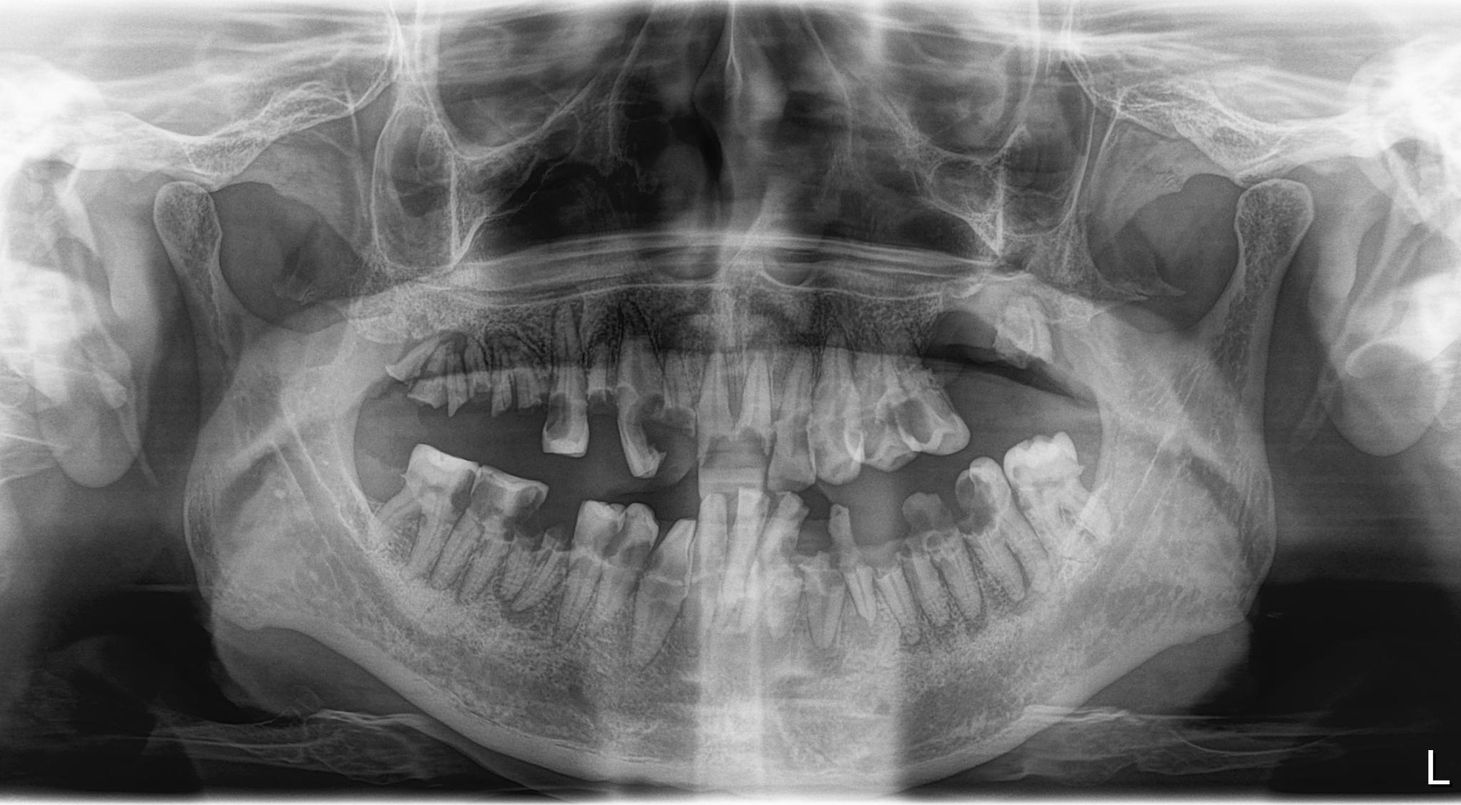Dental Caries: (533, 394, 589, 438), (888, 408, 931, 449), (955, 471, 991, 518), (637, 408, 678, 449), (621, 535, 663, 571), (589, 521, 626, 561), (446, 465, 473, 514), (845, 415, 875, 454), (774, 535, 808, 566), (790, 422, 820, 456), (473, 480, 496, 514)
Missing Tooth: (940, 316, 997, 417), (357, 447, 399, 539)
Retained Root: (653, 381, 778, 464), (992, 294, 1067, 391), (913, 508, 974, 619), (828, 503, 877, 620), (879, 503, 914, 623), (794, 533, 835, 626), (578, 351, 630, 421), (526, 512, 567, 595), (496, 344, 534, 417), (385, 342, 424, 412), (424, 344, 462, 408), (467, 348, 497, 418)
